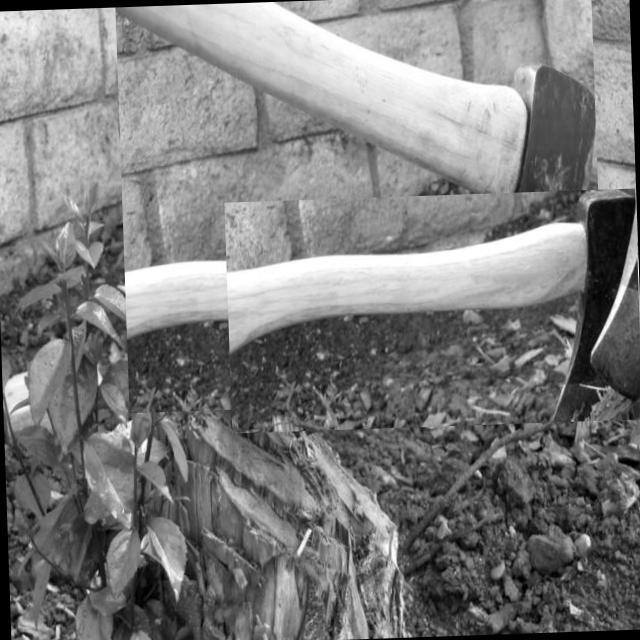Axe: (115, 2, 594, 400), (227, 190, 635, 422)
